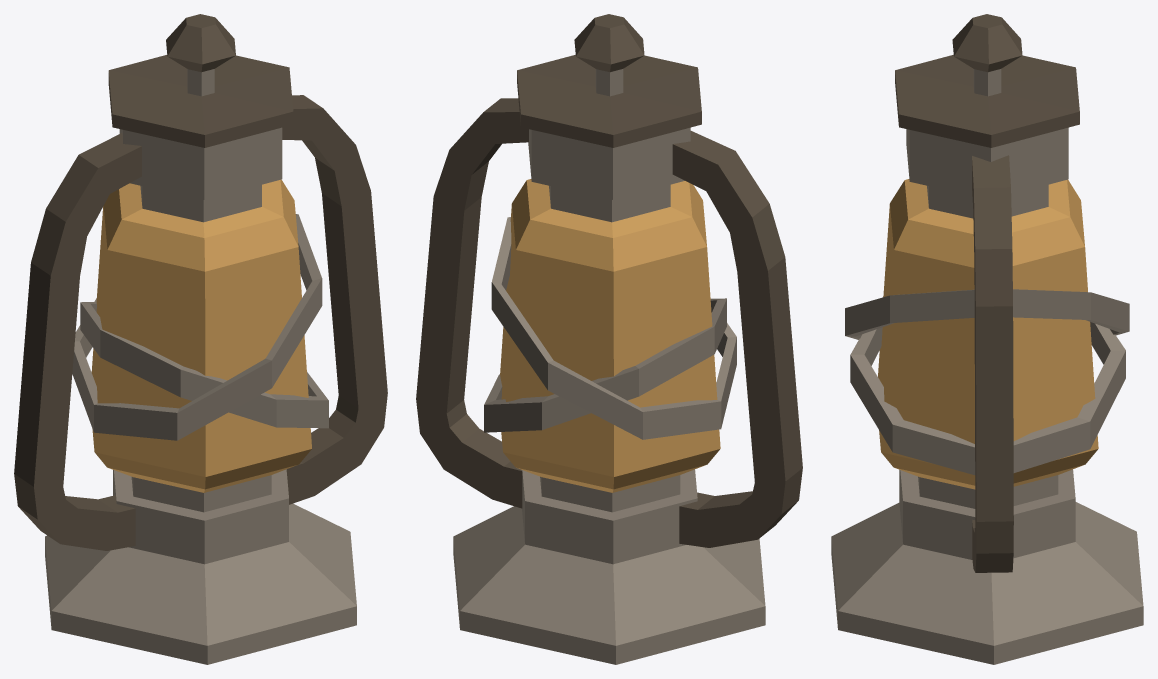
Rendered from urp 5.fbx.
3 views of the same model, side by side, from view 1: azimuth 30°, elevation 25°; view 2: azimuth 150°, elevation 25°; view 3: azimuth 270°, elevation 25° (orthographic).
Parts seen in each view (by area): view 1: urp 5; view 2: urp 5; view 3: urp 5.
Boxes of the visible parts, box(x1,y1,x2,y2) form: urp 5: box(14, 14, 387, 664); urp 5: box(416, 14, 802, 664); urp 5: box(831, 14, 1143, 664).
Bounding box in the file's own units: 49.69 × 74.49 × 37.
